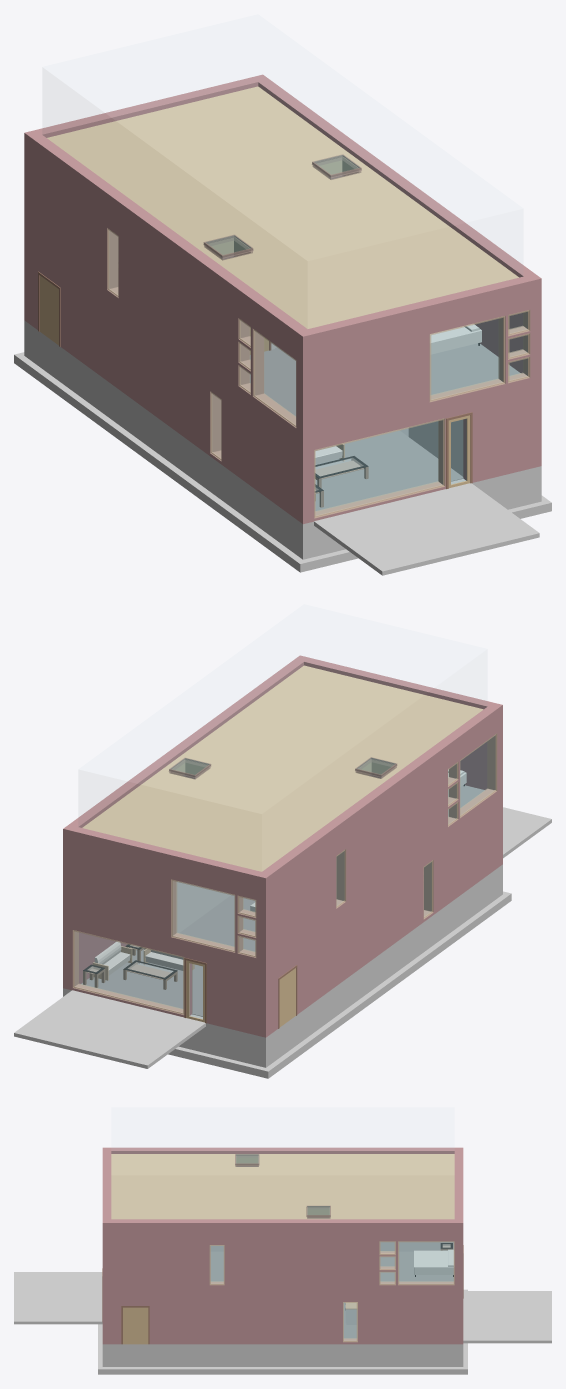
The picture shows the model from 3 angles, top to bottom: view 1: azimuth 30°, elevation 25°; view 2: azimuth 150°, elevation 25°; view 3: azimuth 270°, elevation 25°; orthographic projection. The views are drawn at different scales.
Parts seen in each view (by area): view 1: 0jf0rYHfX3RAB3bSQRjmxl, 2O2Fr$t4X7Zf8NOew3FNhv, 2O2Fr$t4X7Zf8NOew3FLPP, 2O2Fr$t4X7Zf8NOew3FLOH, 1CZILmCaHETO8tf3SgGEXu, 2O2Fr$t4X7Zf8NOew3FNr2, 2O2Fr$t4X7Zf8NOew3FKE5, 0jf0rYHfX3RAB3bSIRjmr1, 2OBrcmyk58NupXoVOHUtxr, 0jf0rYHfX3RAB3bSIRjmoa, 0jf0rYHfX3RAB3bSIRjmpw, 0kF45Qs8L9PAM9kmb1lT5t (+17 smaller); view 2: 0jf0rYHfX3RAB3bSQRjmxl, 2O2Fr$t4X7Zf8NOew3FNhv, 2O2Fr$t4X7Zf8NOew3FLPP, 2O2Fr$t4X7Zf8NOew3FLQD, 2O2Fr$t4X7Zf8NOew3FNtn, 1CZILmCaHETO8tf3SgGEWh, 2O2Fr$t4X7Zf8NOew3FKE5, 0jf0rYHfX3RAB3bSIRjmr1, 0jf0rYHfX3RAB3bSIRjmmy, 0kF45Qs8L9PAM9kmb1lT5t, 0jf0rYHfX3RAB3bSIRjmpw, 2OBrcmyk58NupXoVOHUtgP (+18 smaller); view 3: 0jf0rYHfX3RAB3bSQRjmxl, 2O2Fr$t4X7Zf8NOew3FNqI, 2O2Fr$t4X7Zf8NOew3FLR9, 2O2Fr$t4X7Zf8NOew3FK9N, 0jf0rYHfX3RAB3bSIRjmpw, 1CZILmCaHETO8tf3SgGEWh, 1CZILmCaHETO8tf3SgGEXu, 0kF45Qs8L9PAM9kmb1lT5d, 0jf0rYHfX3RAB3bSIRjmr1, 1hOSvn6df7F8_7GcBWlRGQ, 2OBrcmyk58NupXoVOHUtDX, 2OBrcmyk58NupXoVOHUtI8 (+6 smaller).
Part boxes in pixels (x1=…): 0jf0rYHfX3RAB3bSQRjmxl: x1=47, y1=86, x2=518, y2=328; 2O2Fr$t4X7Zf8NOew3FNhv: x1=31, y1=237, x2=296, y2=518; 2O2Fr$t4X7Zf8NOew3FLPP: x1=24, y1=150, x2=302, y2=435; 2O2Fr$t4X7Zf8NOew3FLOH: x1=303, y1=296, x2=541, y2=436; 1CZILmCaHETO8tf3SgGEXu: x1=314, y1=483, x2=539, y2=575; 2O2Fr$t4X7Zf8NOew3FNr2: x1=296, y1=381, x2=530, y2=524; 2O2Fr$t4X7Zf8NOew3FKE5: x1=31, y1=325, x2=296, y2=554; 0jf0rYHfX3RAB3bSIRjmr1: x1=31, y1=135, x2=307, y2=348; 2OBrcmyk58NupXoVOHUtxr: x1=315, y1=428, x2=463, y2=511; 0jf0rYHfX3RAB3bSIRjmoa: x1=296, y1=276, x2=530, y2=353; 0jf0rYHfX3RAB3bSIRjmpw: x1=258, y1=79, x2=541, y2=298; 0kF45Qs8L9PAM9kmb1lT5t: x1=14, y1=352, x2=292, y2=561; 0jf0rYHfX3RAB3bSQRjmxl: x1=82, y1=665, x2=483, y2=871; 2O2Fr$t4X7Zf8NOew3FNhv: x1=271, y1=794, x2=497, y2=1032; 2O2Fr$t4X7Zf8NOew3FLPP: x1=266, y1=720, x2=502, y2=962; 2O2Fr$t4X7Zf8NOew3FLQD: x1=63, y1=843, x2=265, y2=962; 2O2Fr$t4X7Zf8NOew3FNtn: x1=63, y1=913, x2=271, y2=1037; 1CZILmCaHETO8tf3SgGEWh: x1=14, y1=990, x2=205, y2=1068; 2O2Fr$t4X7Zf8NOew3FKE5: x1=271, y1=869, x2=497, y2=1063; 0jf0rYHfX3RAB3bSIRjmr1: x1=262, y1=706, x2=497, y2=888; 0jf0rYHfX3RAB3bSIRjmmy: x1=63, y1=825, x2=271, y2=892; 0kF45Qs8L9PAM9kmb1lT5t: x1=247, y1=901, x2=499, y2=1078; 0jf0rYHfX3RAB3bSIRjmpw: x1=69, y1=655, x2=309, y2=827; 2OBrcmyk58NupXoVOHUtgP: x1=81, y1=949, x2=202, y2=1016; 0jf0rYHfX3RAB3bSQRjmxl: x1=111, y1=1154, x2=454, y2=1219; 2O2Fr$t4X7Zf8NOew3FNqI: x1=102, y1=1287, x2=454, y2=1344; 2O2Fr$t4X7Zf8NOew3FLR9: x1=102, y1=1234, x2=463, y2=1287; 2O2Fr$t4X7Zf8NOew3FK9N: x1=102, y1=1344, x2=454, y2=1366; 0jf0rYHfX3RAB3bSIRjmpw: x1=102, y1=1219, x2=454, y2=1233; 1CZILmCaHETO8tf3SgGEWh: x1=463, y1=1291, x2=551, y2=1343; 1CZILmCaHETO8tf3SgGEXu: x1=14, y1=1272, x2=102, y2=1324; 0kF45Qs8L9PAM9kmb1lT5d: x1=98, y1=1361, x2=467, y2=1374; 0jf0rYHfX3RAB3bSIRjmr1: x1=111, y1=1147, x2=454, y2=1153; 1hOSvn6df7F8_7GcBWlRGQ: x1=121, y1=1306, x2=149, y2=1344; 2OBrcmyk58NupXoVOHUtDX: x1=380, y1=1251, x2=453, y2=1281; 2OBrcmyk58NupXoVOHUtI8: x1=414, y1=1249, x2=453, y2=1276.
Bounding box in the file's own units: 9.28 × 10.55 × 26.57.
